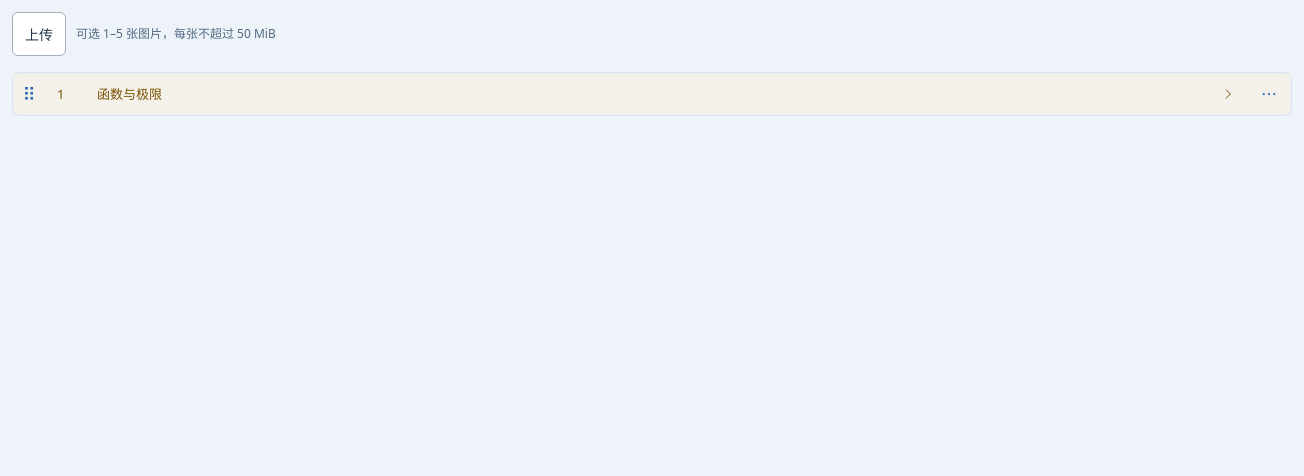
Test case: reviewed curriculum › saves a draft without applying formal structure, and requires an explicit confirmation
The image size is (1304, 476).
Right-click the button with aria-label "章节 1 ".
right_click(130, 94)  # box 45,73 -> 1247,115
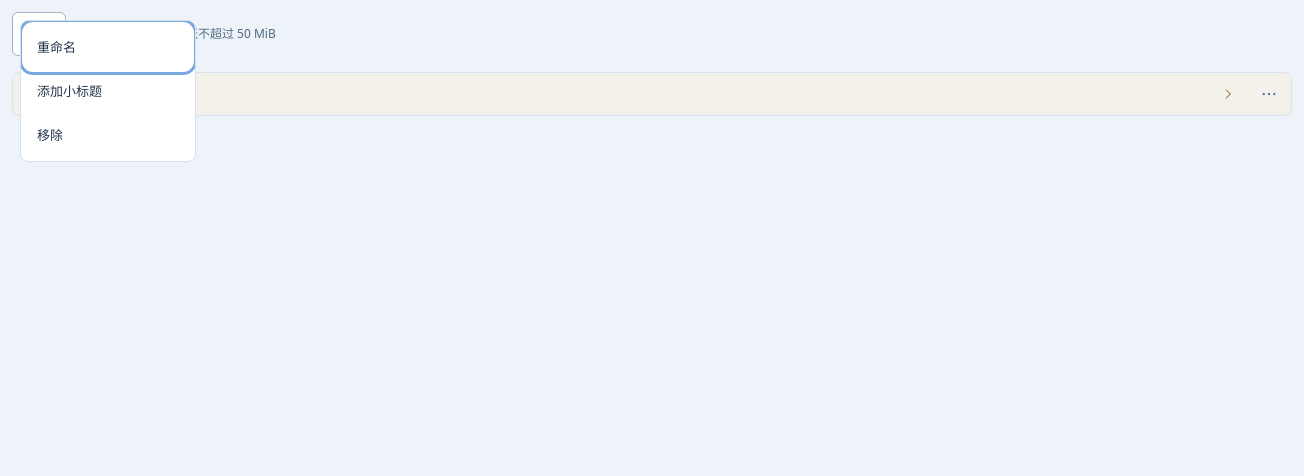
Click the menu item "重命名".
click(108, 47)  # box 25,25 -> 191,69
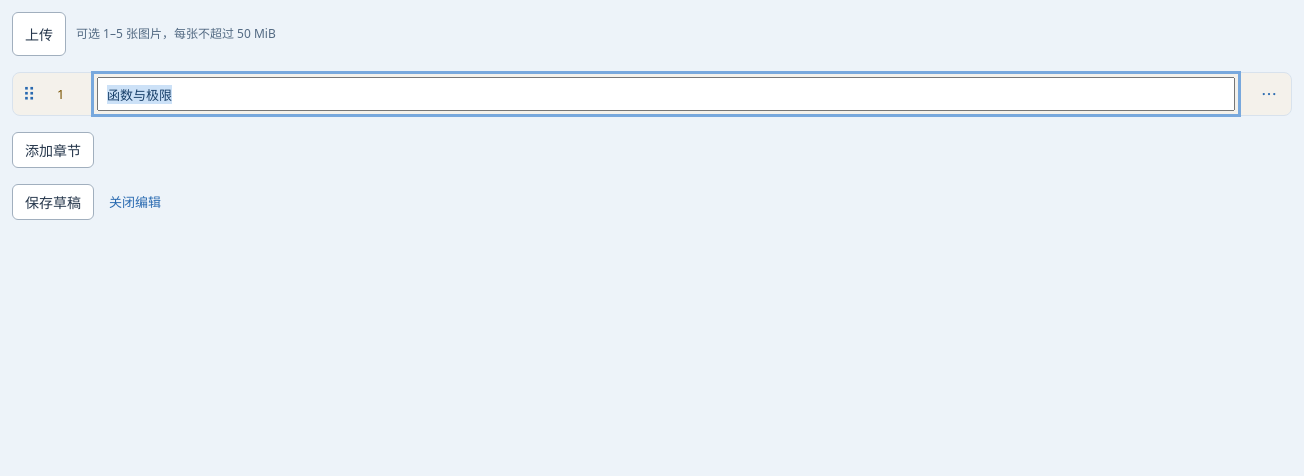
Replace the text in the field named "章节 1标题" with "第一章 函数与极限" at (666, 94), box 97,77 -> 1235,111
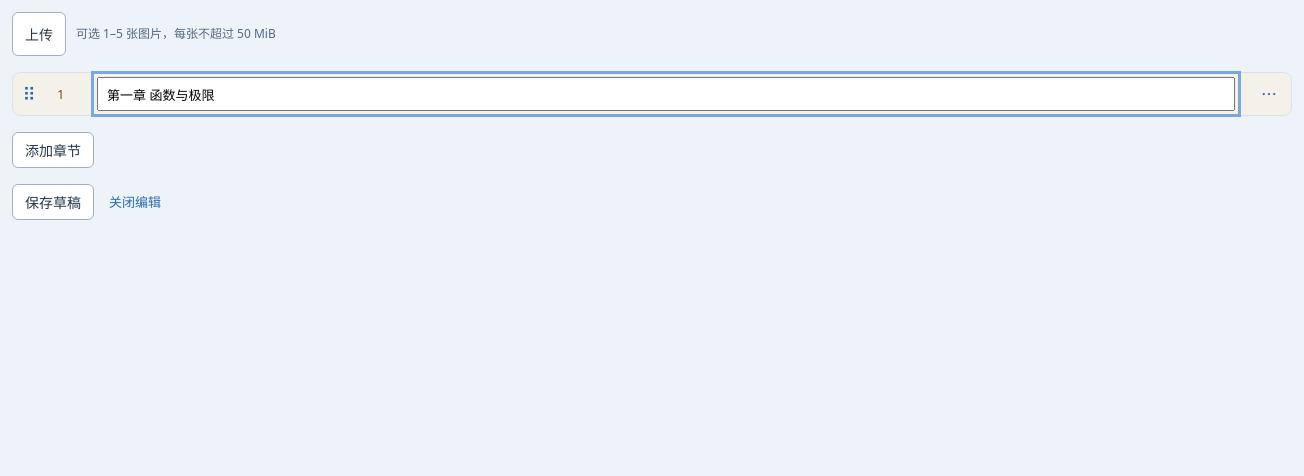
Click the button "保存草稿".
click(53, 202)  # box 12,184 -> 94,220
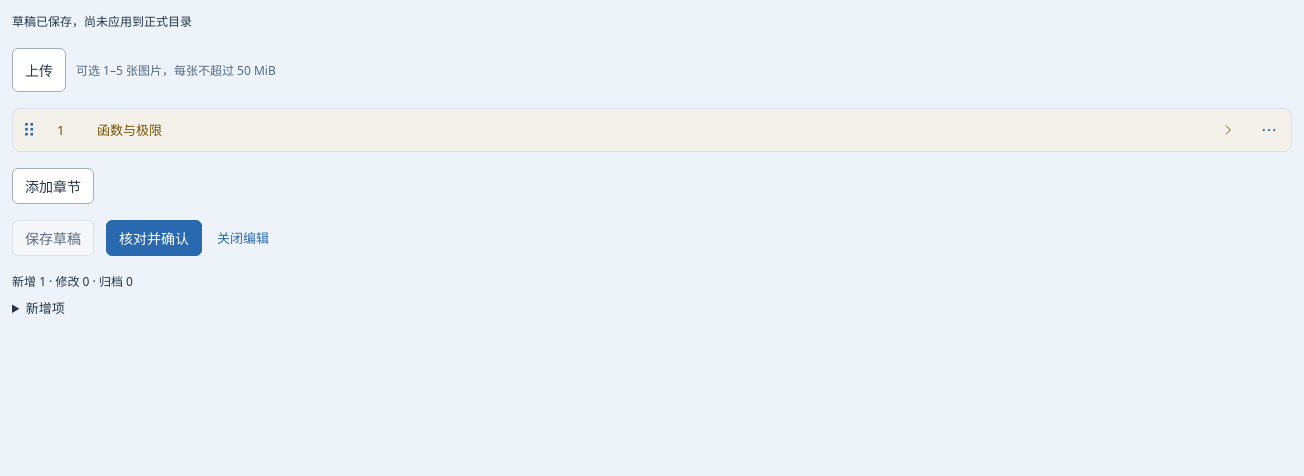
Now the text "草稿已保存，尚未应用到正式目录" is shown, box 12,13 -> 192,30
Click the button "核对并确认".
click(154, 238)  # box 106,220 -> 202,256
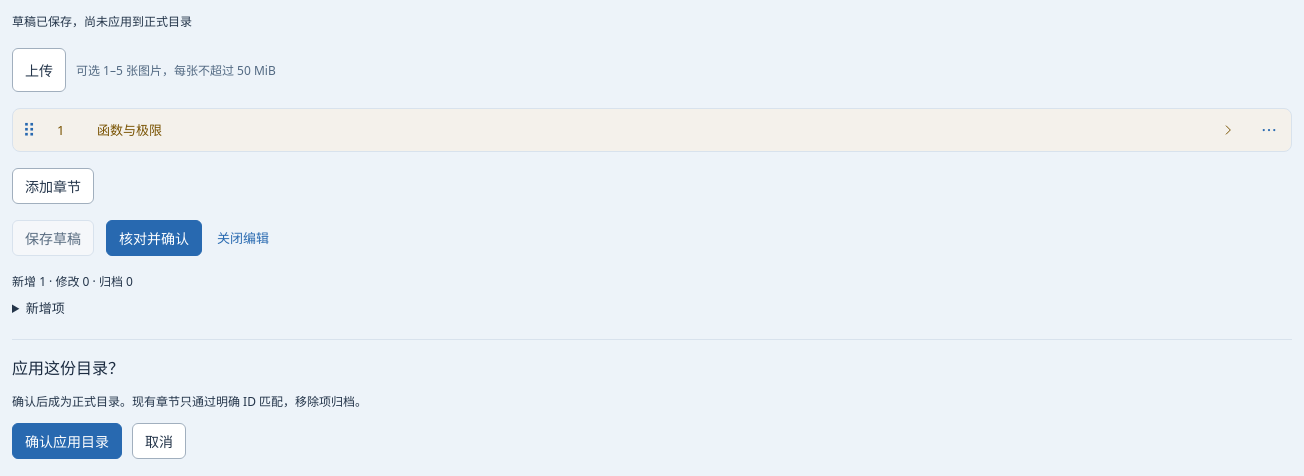
Click the button "确认应用目录".
click(67, 441)  # box 12,423 -> 122,459
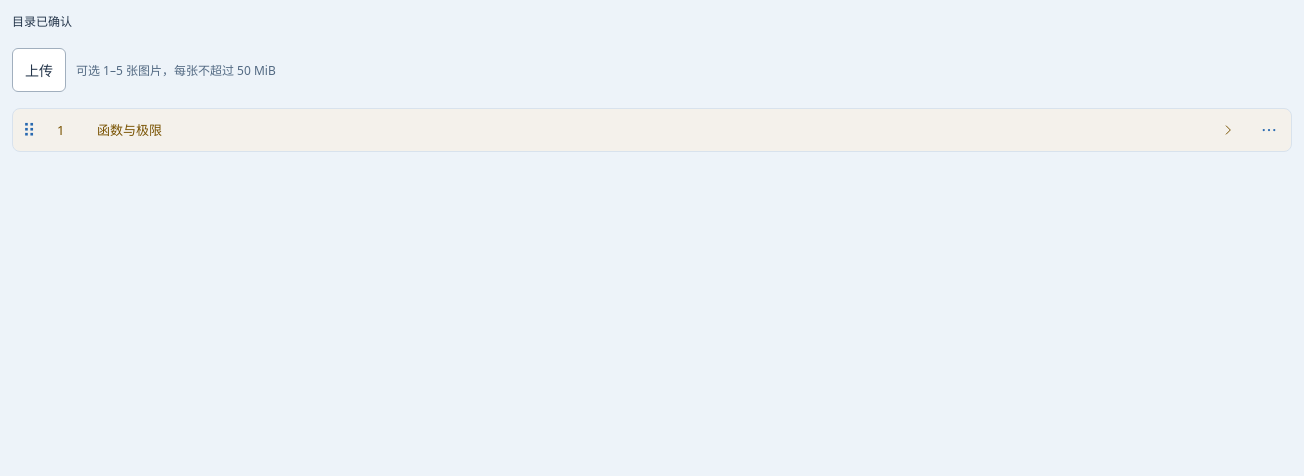
Now the button with aria-label "章节 1 函数与极限" is shown, box 45,109 -> 1247,151
Now the text "目录已确认" is shown, box 12,13 -> 72,30
